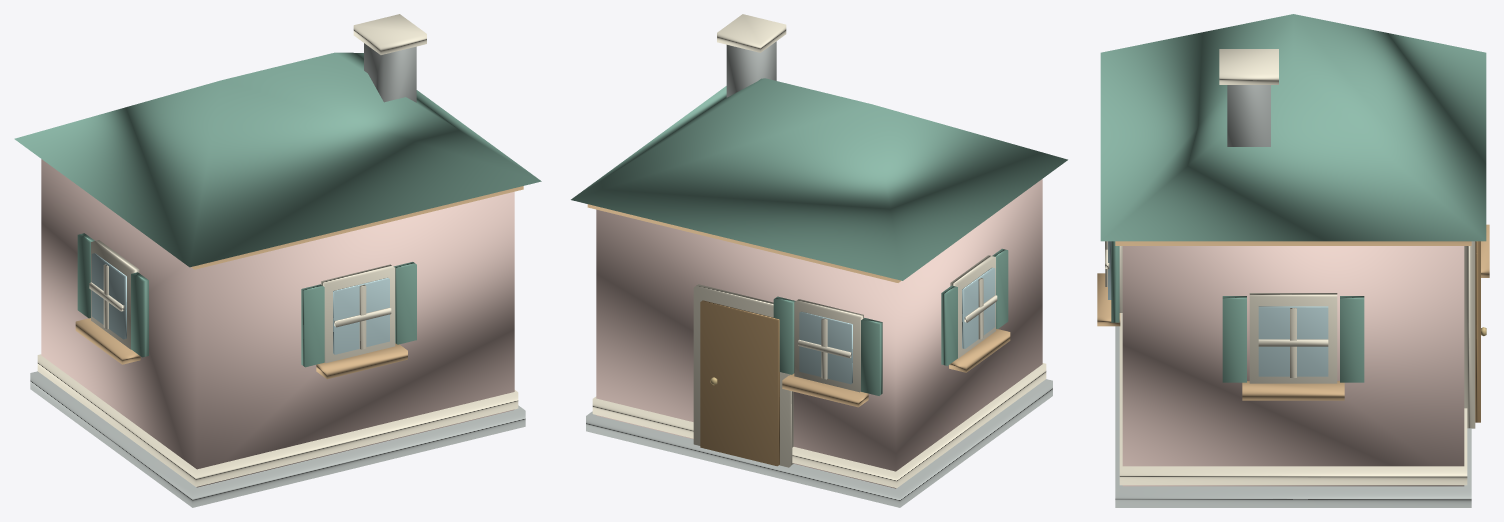
File: cottage_5_low.glb
The picture shows the model from 3 angles, left to right: view 1: azimuth 30°, elevation 25°; view 2: azimuth 150°, elevation 25°; view 3: azimuth 270°, elevation 25°; orthographic projection. The views are drawn at different scales.
Size of the model in its own units: 3.72 by 3.68 by 3.22.
